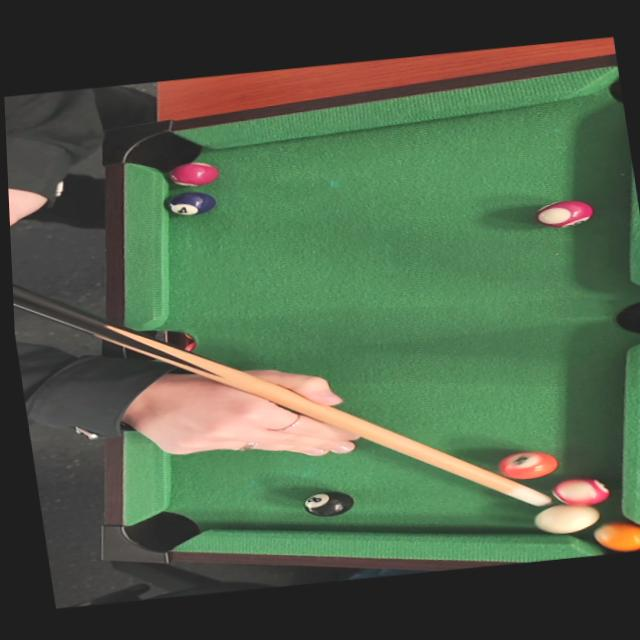cue ball: (525, 501, 601, 538)
other: (488, 444, 568, 483), (526, 194, 603, 232), (550, 470, 619, 510), (160, 188, 225, 222), (164, 157, 229, 189), (586, 520, 640, 555), (300, 486, 355, 517)
